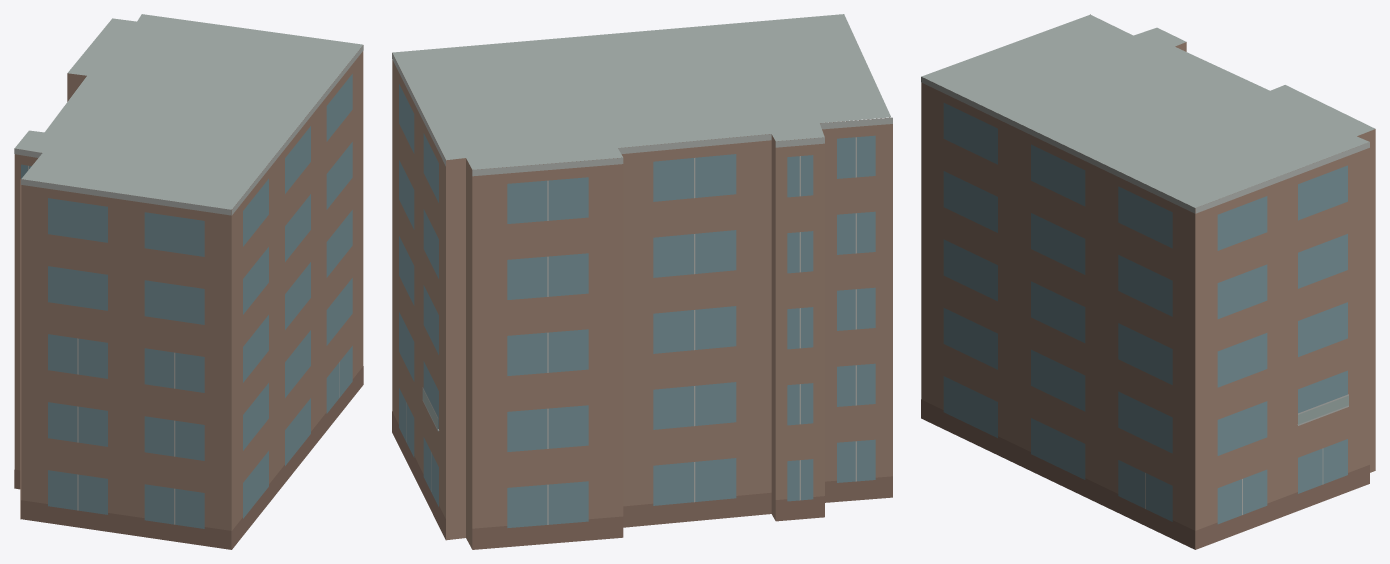
The model's file is survey-upis-33024398.glb.
3 renders of one model, left to right at view 1: azimuth 30°, elevation 25°; view 2: azimuth 150°, elevation 25°; view 3: azimuth 270°, elevation 25°, orthographic. The views are drawn at different scales.
Parts seen in each view (by area): view 1: survey-upis-33024398.tmp; view 2: survey-upis-33024398.tmp; view 3: survey-upis-33024398.tmp.
Boxes of the visible parts, x1,y1,x2,y2 form: survey-upis-33024398.tmp: [14, 14, 363, 549]; survey-upis-33024398.tmp: [392, 14, 892, 549]; survey-upis-33024398.tmp: [921, 14, 1375, 549].
Bounding box in the file's own units: 17.54 × 14.4 × 17.36.
